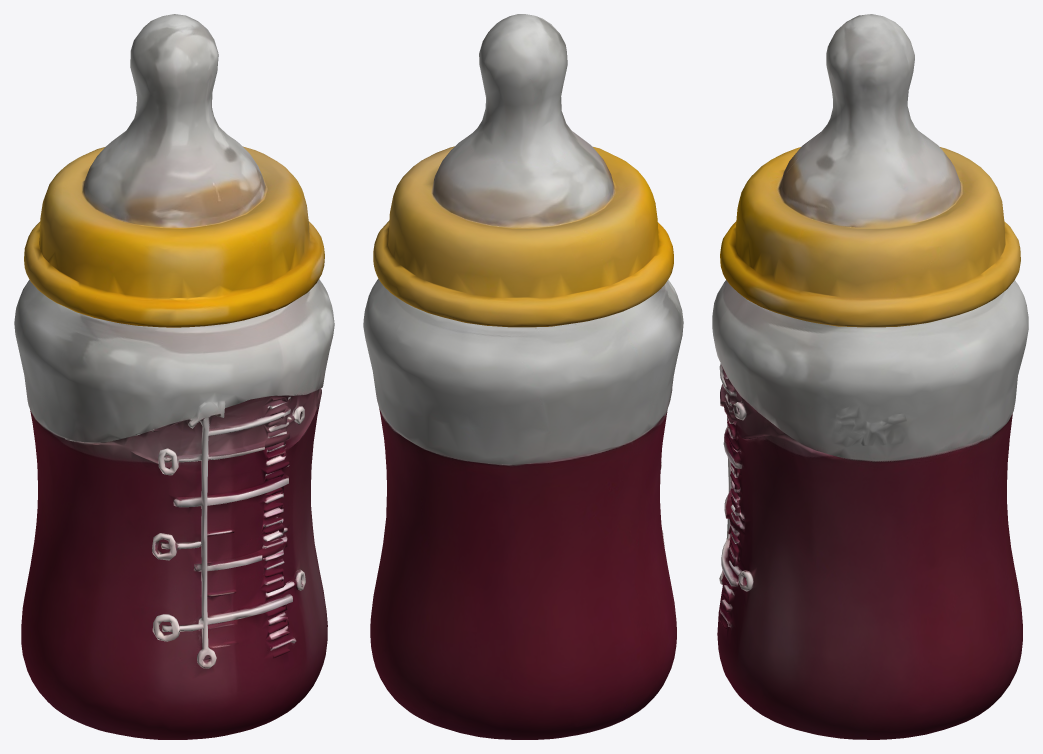
Rendered from baby_bottle.glb.
3 renders of one model, left to right at view 1: azimuth 30°, elevation 25°; view 2: azimuth 150°, elevation 25°; view 3: azimuth 270°, elevation 25°, orthographic.
Visible parts, largest first — view 1: baby_bottle / mesh; view 2: baby_bottle / mesh; view 3: baby_bottle / mesh.
Boxes of the visible parts, x1,y1,x2,y2 form: baby_bottle / mesh: [14, 14, 334, 739]; baby_bottle / mesh: [363, 14, 683, 739]; baby_bottle / mesh: [712, 14, 1028, 739].
Size of the model in its own units: 0.1034 by 0.24 by 0.1025.
1 material, 1 textured.
